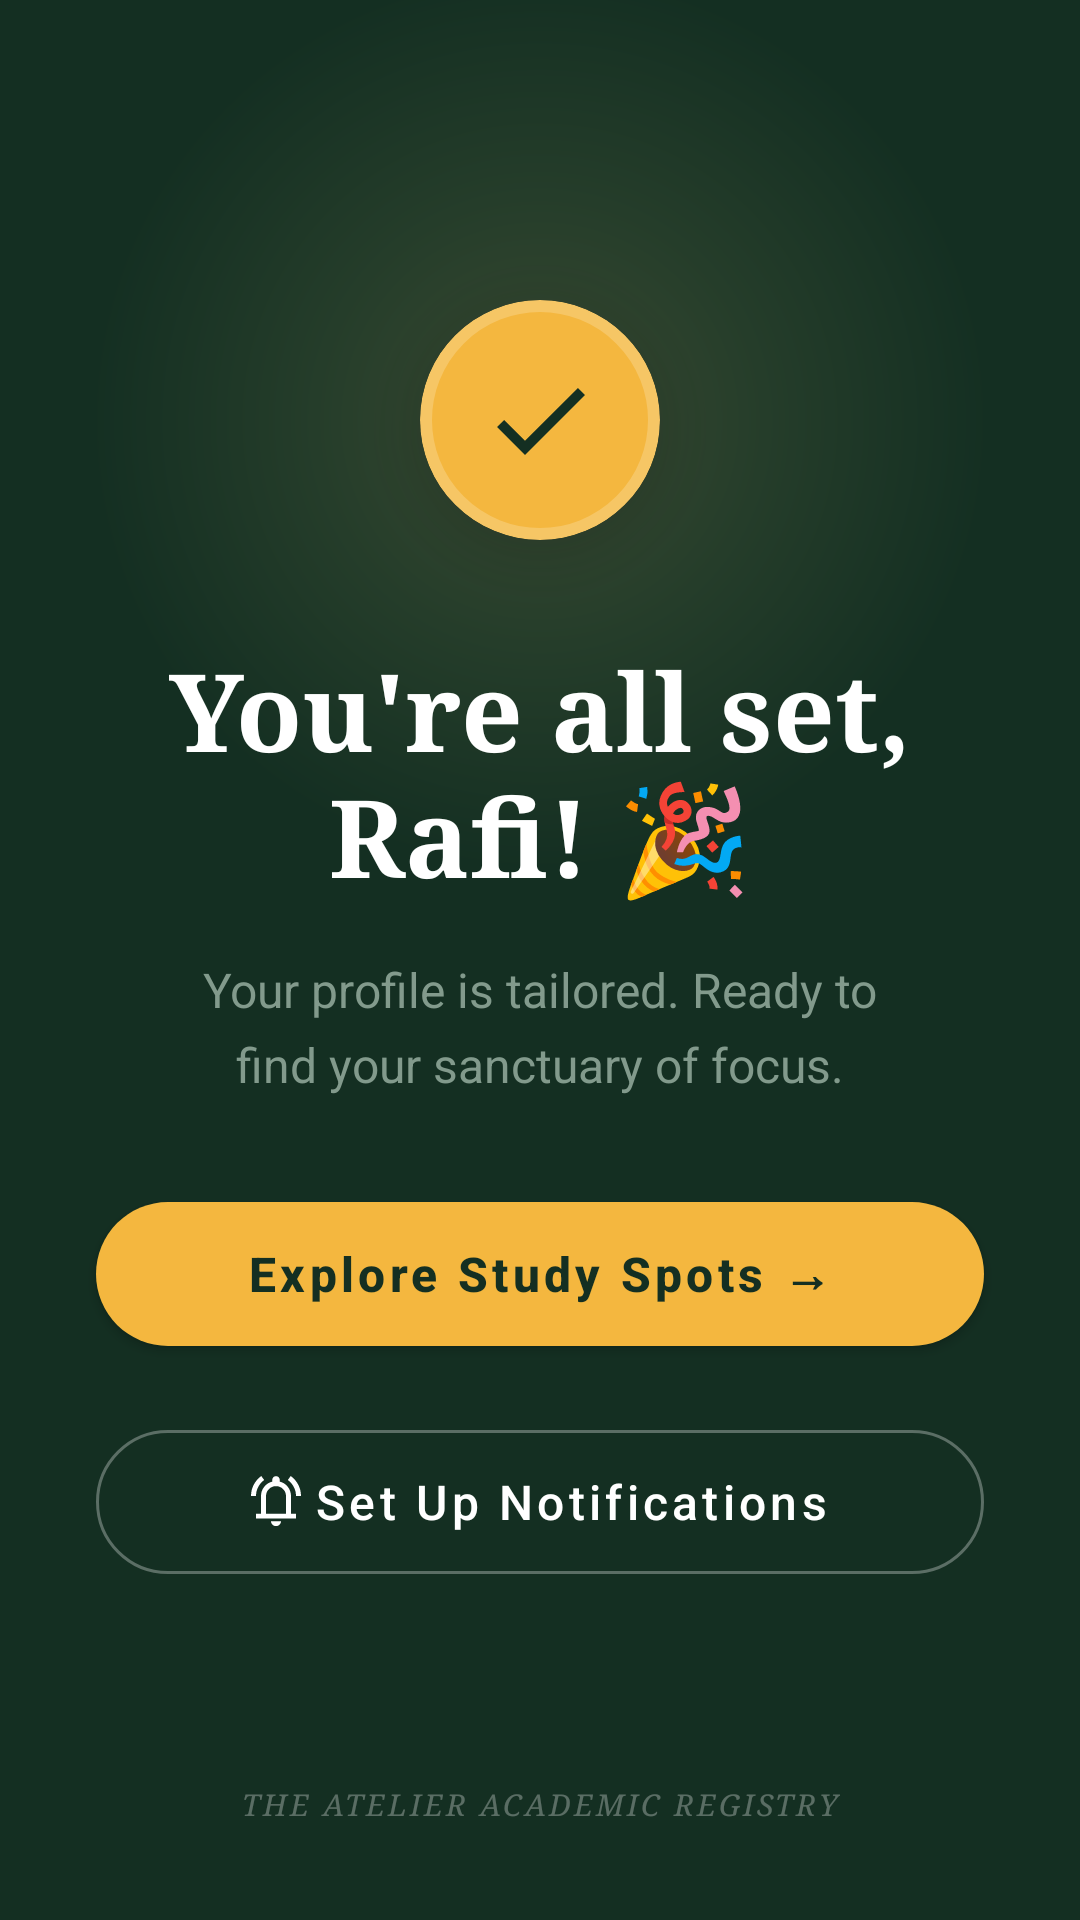

Icon click points for this 1080x1920 phone screenshot, format point (x, y):
check: point (540, 420)
